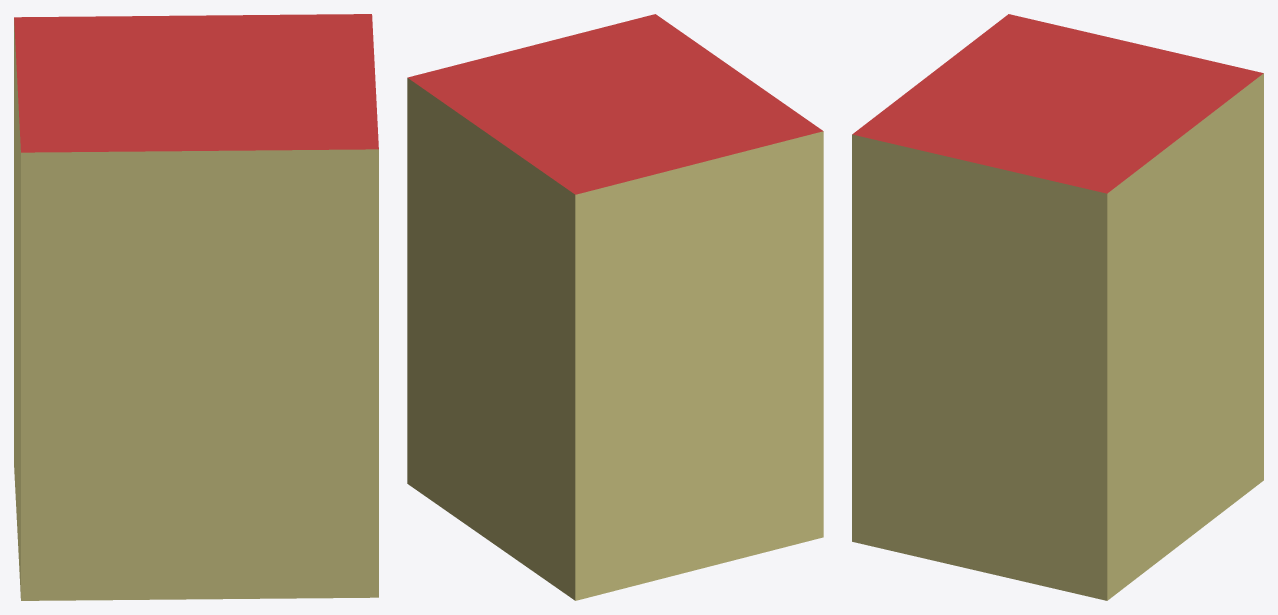
3 renders of one model, left to right at view 1: azimuth 30°, elevation 25°; view 2: azimuth 150°, elevation 25°; view 3: azimuth 270°, elevation 25°, orthographic. The views are drawn at different scales.
Size of the model in its own units: 7.78 by 7.53 by 8.22.
